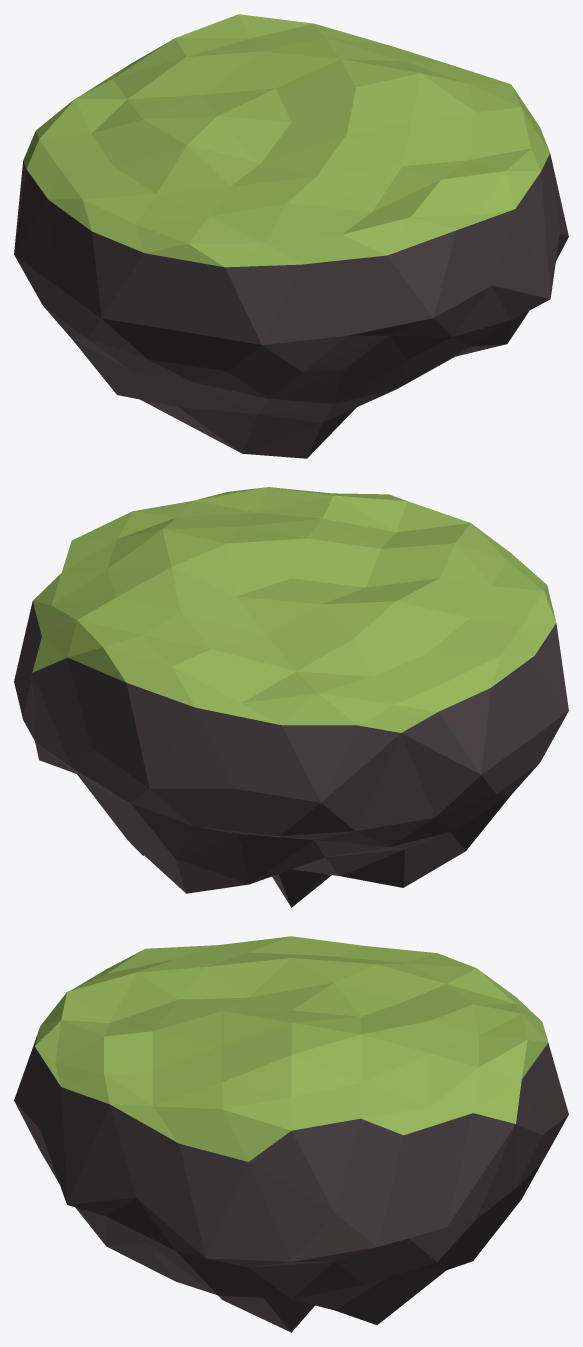
The model's file is ballon-eiland.dae.
3 renders of one model, top to bottom at view 1: azimuth 30°, elevation 25°; view 2: azimuth 150°, elevation 25°; view 3: azimuth 270°, elevation 25°, orthographic. The views are drawn at different scales.
Parts seen in each view (by area): view 1: Icosphere; view 2: Icosphere; view 3: Icosphere.
Boxes of the visible parts, box(x1,y1,x2,y2) form: Icosphere: box(14, 14, 568, 458); Icosphere: box(14, 487, 568, 907); Icosphere: box(14, 936, 568, 1332).
Bounding box in the file's own units: 20.07 × 21.1 × 14.3.
